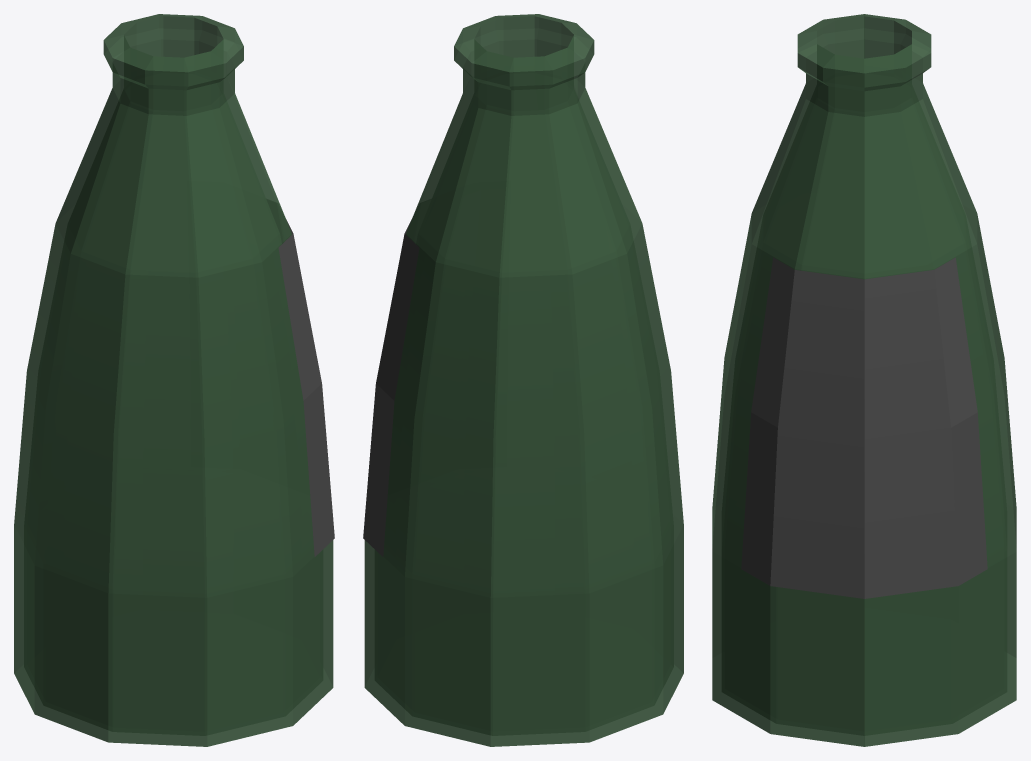
File: SmallBottle.fbx
3 views of the same model, side by side, from view 1: azimuth 30°, elevation 25°; view 2: azimuth 150°, elevation 25°; view 3: azimuth 270°, elevation 25° (orthographic).
Visible parts, largest first — view 1: SmallBottle, SmallBottleLabel; view 2: SmallBottle, SmallBottleLabel; view 3: SmallBottle, SmallBottleLabel.
Boxes of the visible parts, left/top/right/bottom form: SmallBottle: left=14, top=14, right=333, bottom=746; SmallBottleLabel: left=278, top=219, right=334, bottom=556; SmallBottle: left=364, top=14, right=683, bottom=746; SmallBottleLabel: left=363, top=219, right=419, bottom=556; SmallBottle: left=712, top=14, right=1016, bottom=746; SmallBottleLabel: left=741, top=257, right=987, bottom=598.
Size of the model in its own units: 2.01 by 4.42 by 1.9.
